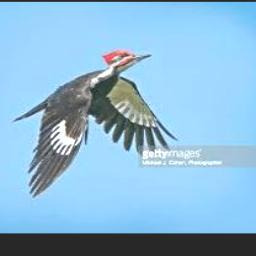Woodpecker: (12, 50, 178, 198)
